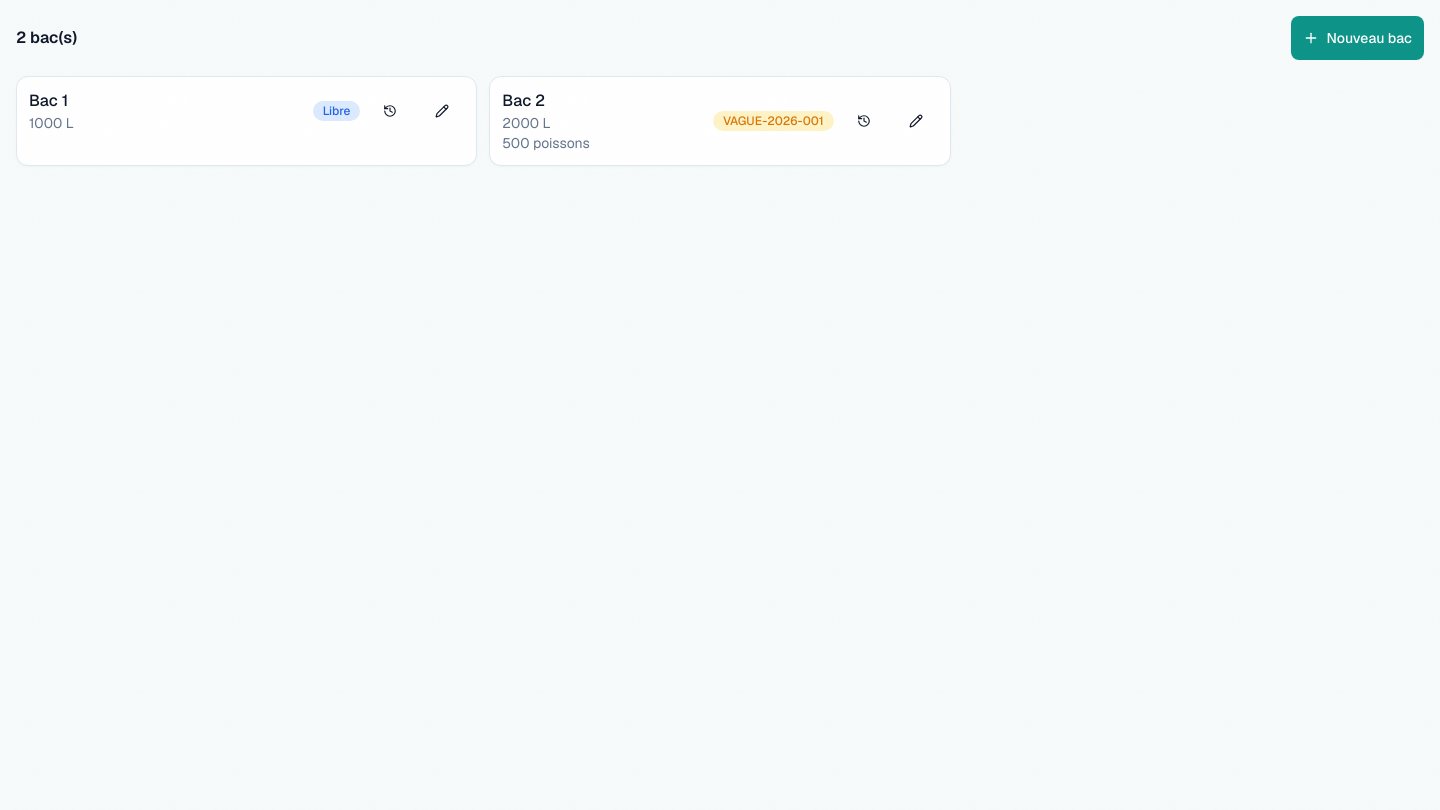
Scenario: BacsListClient — Formulaire de création › affiche une erreur si le volume est 0
Click the button "Nouveau bac" at (1357, 38), box [1290,16,1424,60]
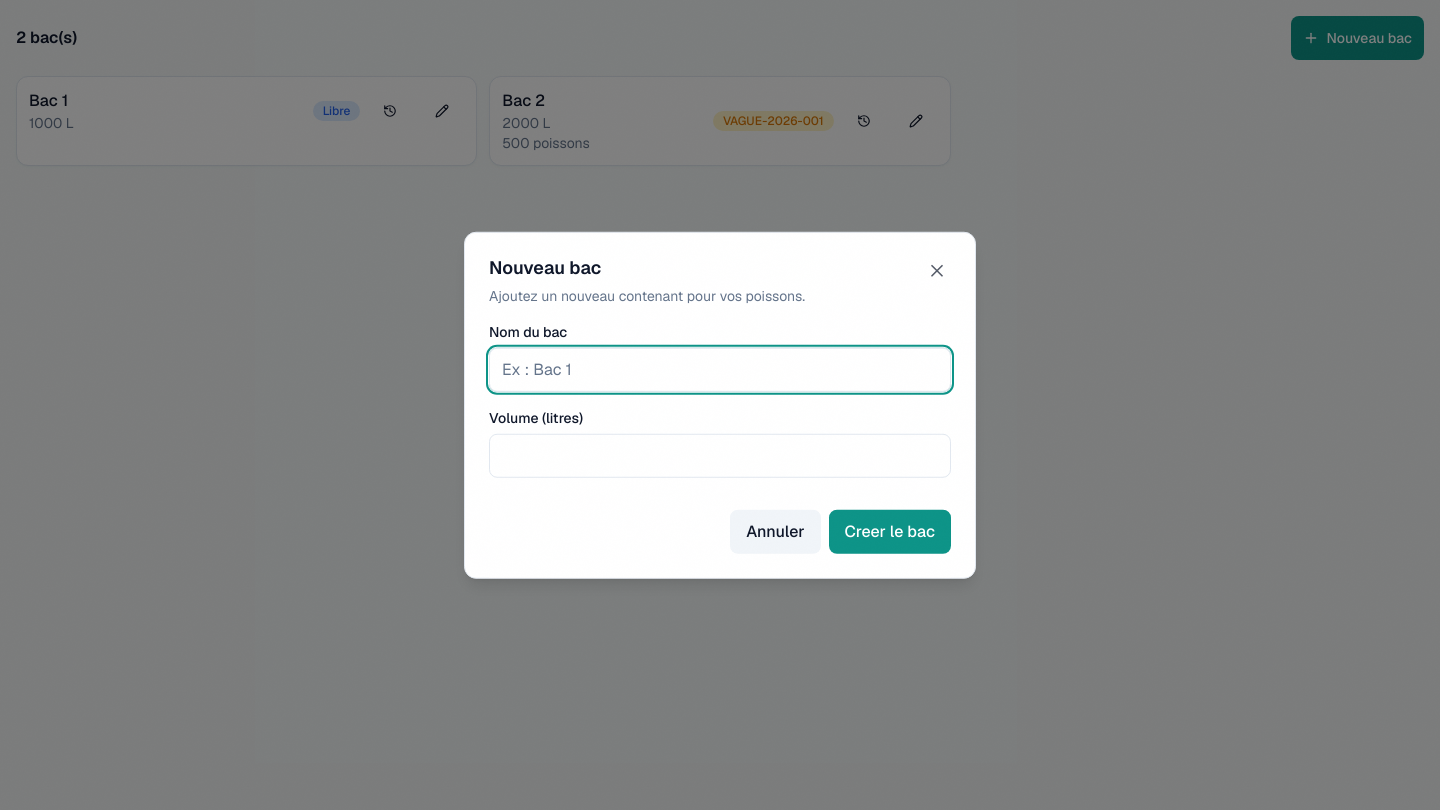
Now the button "Creer le bac" is shown, box [829,509,951,553]
Type "Bac Test" into the field labelled "Nom du bac" at (720, 369), box [489,347,951,391]
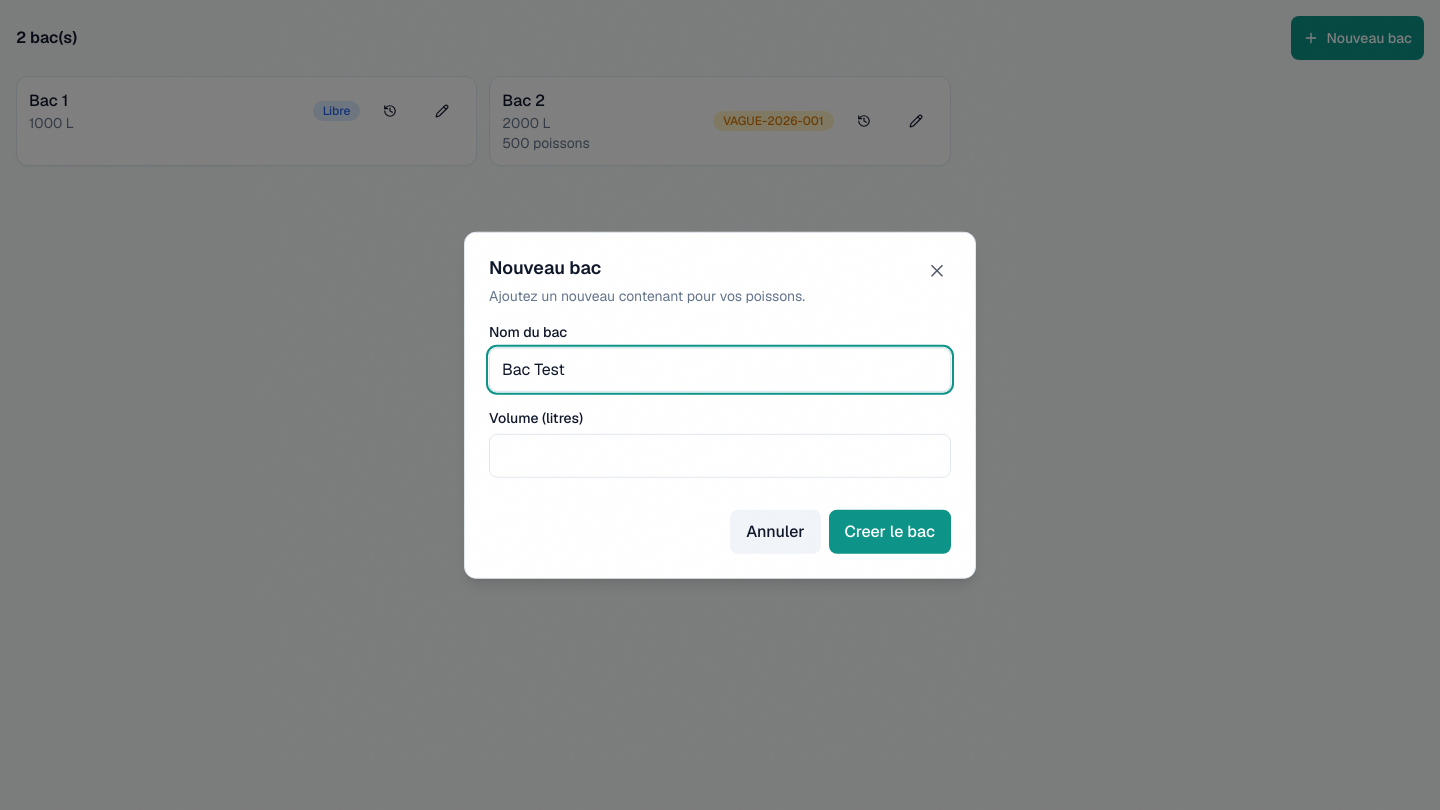
Click the button "Creer le bac" at (890, 531), box [829,509,951,553]
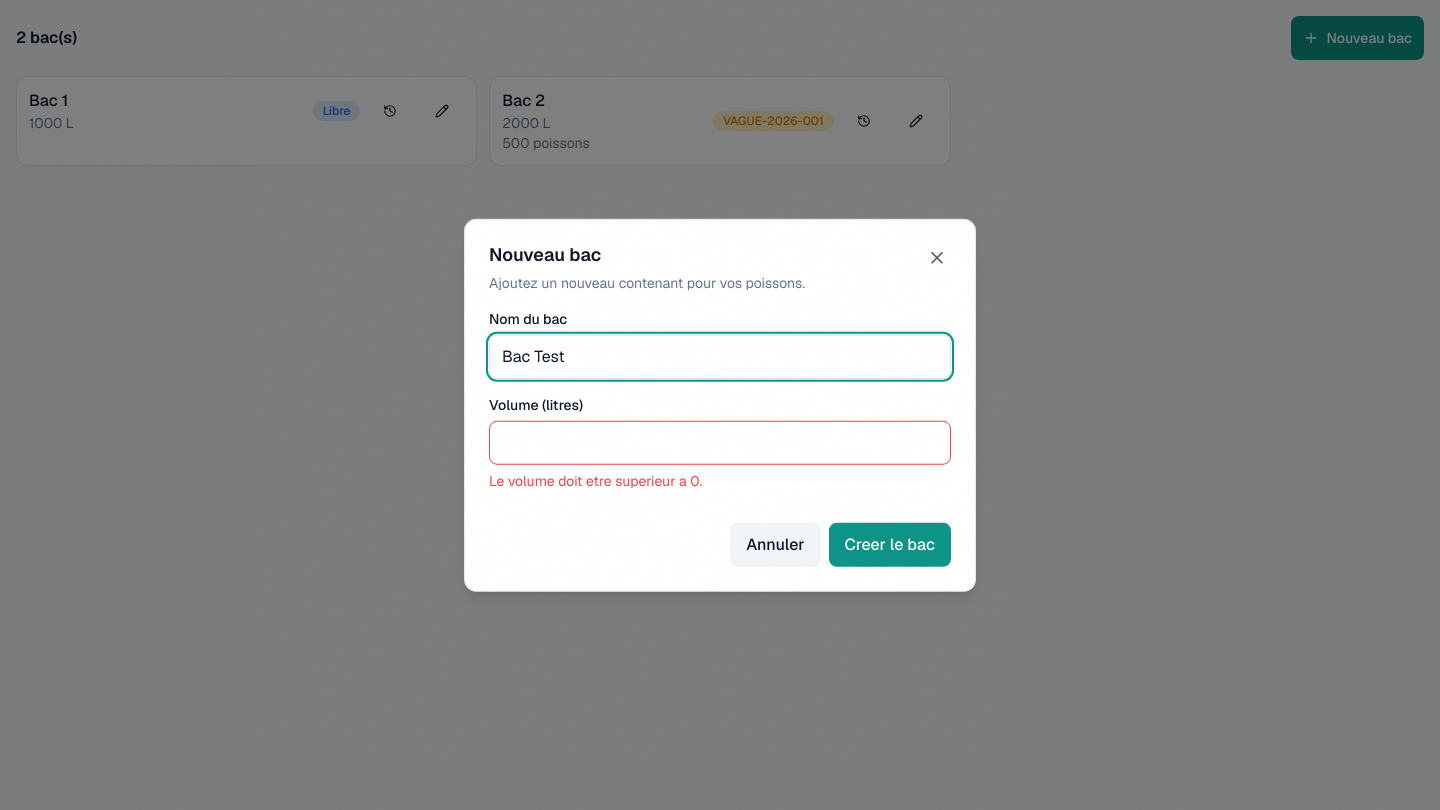
Now the text "Le volume doit etre superieur a 0." is shown, box [489,471,702,489]
